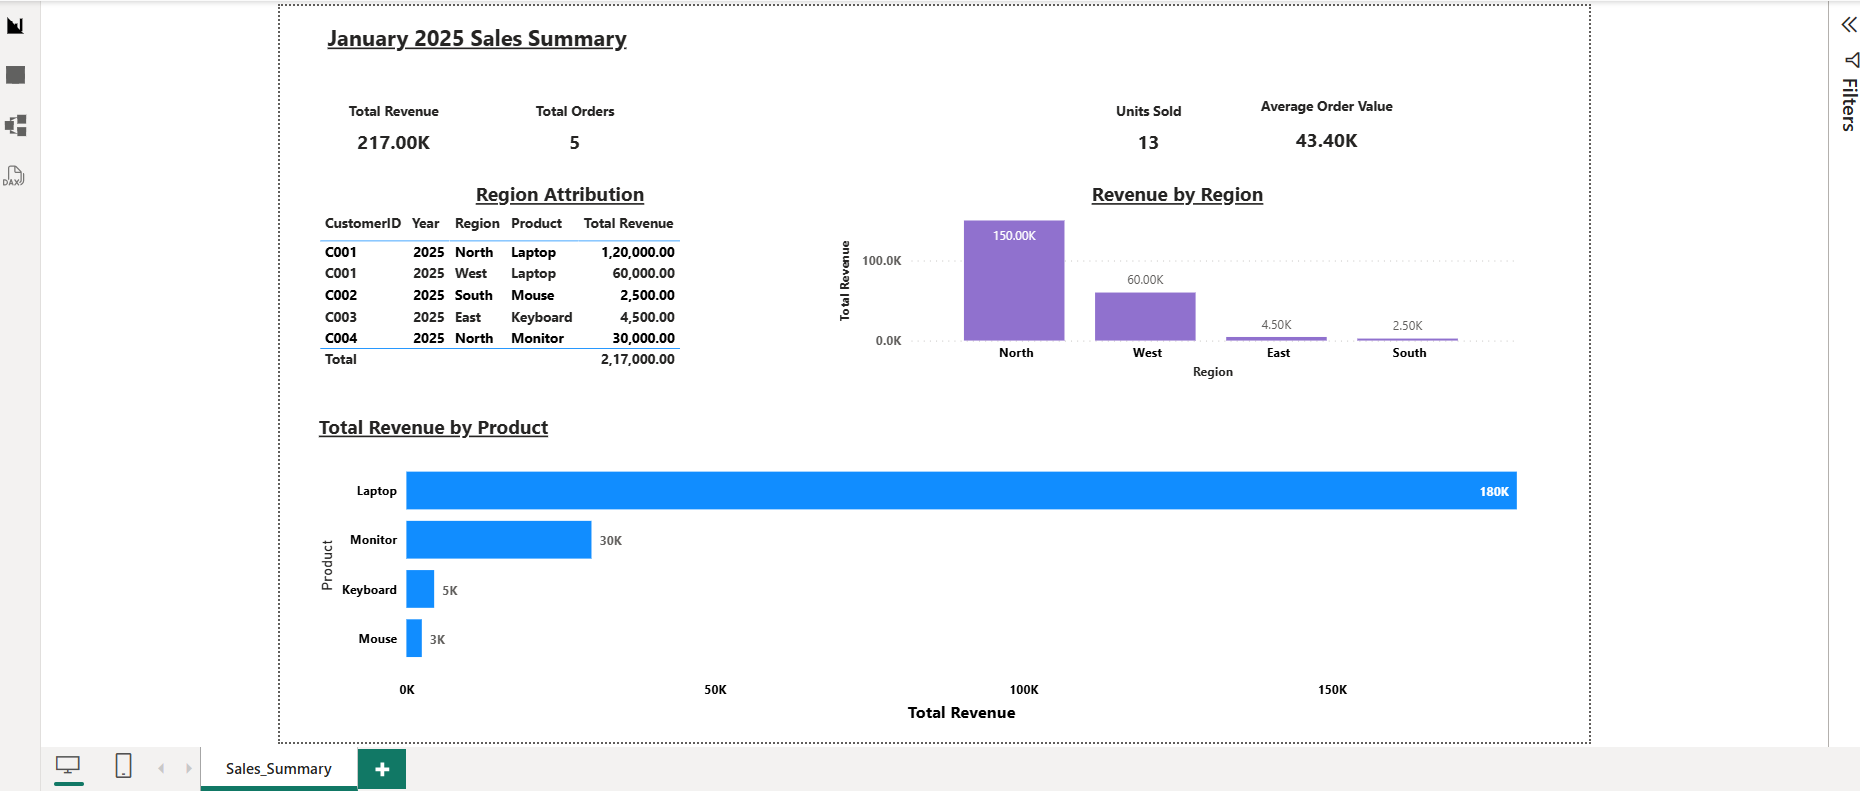

This screenshot's page, from the dashboard's own definition file:
{"tool":"powerbi","page":{"name":"Sales_Summary","canvas":[1280,720],"ordinal":0},"visuals":[{"type":"card","title":"Total Revenue","fields":{"Values":["Sum(Sales.Revenue)"]},"box":[41.6,92.9,139.4,66],"z":0},{"type":"card","title":"Total Orders","fields":{"Values":["Sales.Total Orders"]},"box":[206.6,92.9,163.8,66],"z":1000},{"type":"card","title":"Units Sold","fields":{"Values":["Sales.Units Sold"]},"box":[787.2,92.9,124.7,66],"z":2000},{"type":"card","title":"Average Order Value","fields":{"Values":["Sales.Average Order Value"]},"box":[911.9,84.3,211.5,74.6],"z":3000},{"type":"clusteredBarChart","fields":{"Category":["Sales.Product"],"Y":["Sales.Total Revenue"]},"box":[33,398.5,1196.7,306.8],"z":4000},{"type":"clusteredColumnChart","title":"Revenue by Region","fields":{"Category":["Sales.Region"],"Y":["Sales.Total Revenue"]},"box":[542.8,171.1,669.9,199.3],"z":5000},{"type":"tableEx","title":"Region Attribution ","fields":{"Values":["Sales.CustomerID","Sales.OrderDate.Variation.Date Hierarchy.Year","Sales.Region","Sales.Product","Sales.Total Revenue"]},"box":[33,171.1,481.6,207.8],"z":6000},{"type":"textbox","box":[41.6,11,328.8,41.6],"z":7000}]}

Visuals, with their boxes on the page's 1280x720 design canvas (x1, y1, x2, y2). These are canvas units, not pixel positions in the 1860x791 screenshot, which may show the page scaled, cropped or inside an application window:
"Total Revenue" card: (x1=42, y1=93, x2=181, y2=159)
"Total Orders" card: (x1=207, y1=93, x2=370, y2=159)
"Units Sold" card: (x1=787, y1=93, x2=912, y2=159)
"Average Order Value" card: (x1=912, y1=84, x2=1123, y2=159)
clusteredBarChart - Sales.Product x Sales.Total Revenue: (x1=33, y1=398, x2=1230, y2=705)
"Revenue by Region" clusteredColumnChart: (x1=543, y1=171, x2=1213, y2=370)
"Region Attribution " tableEx: (x1=33, y1=171, x2=515, y2=379)
textbox: (x1=42, y1=11, x2=370, y2=53)
